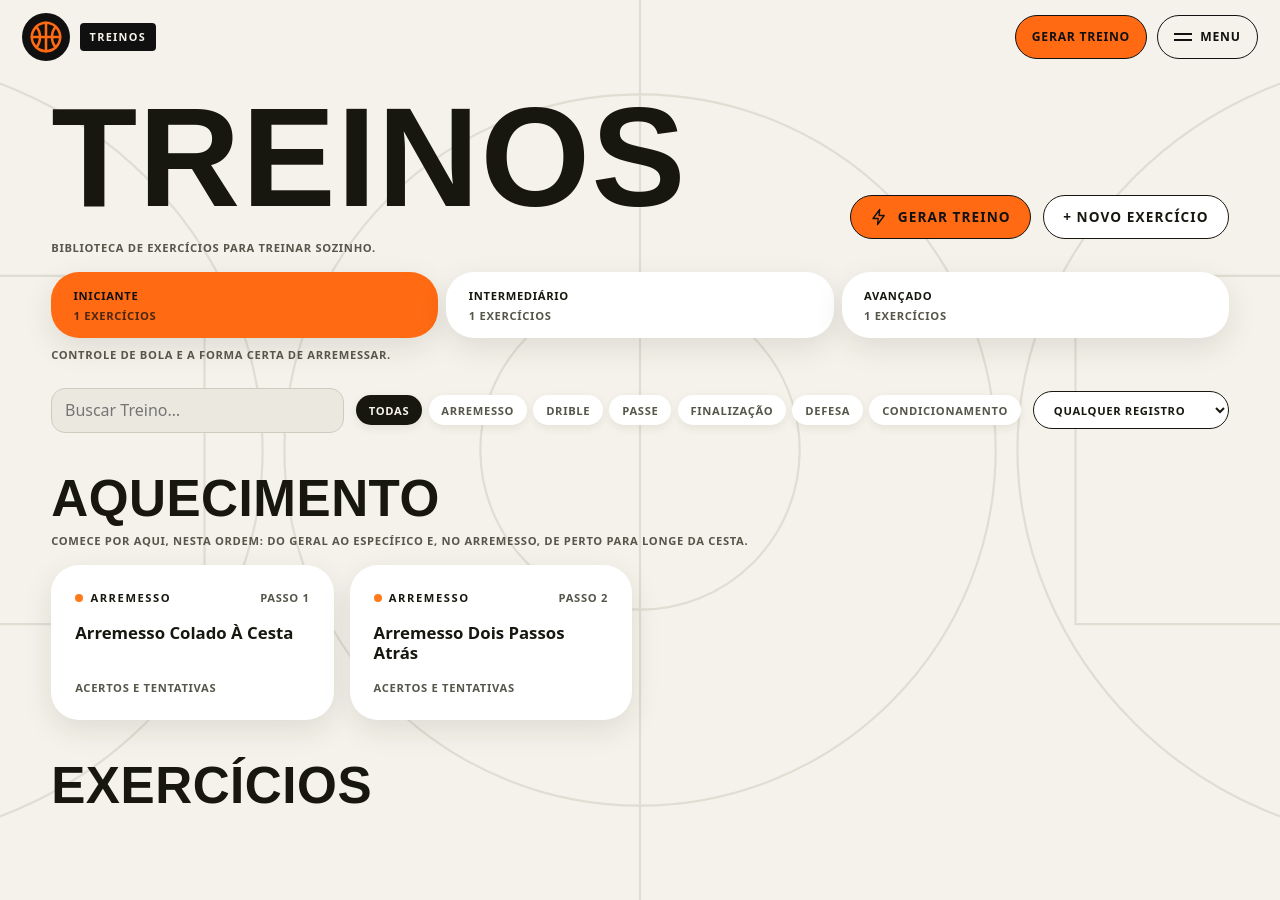
Níveis › troca de nível mantendo os exercícios do atleta
Click the button "Avançado 1 exercícios" at (898, 295), box [842,272,1229,338]
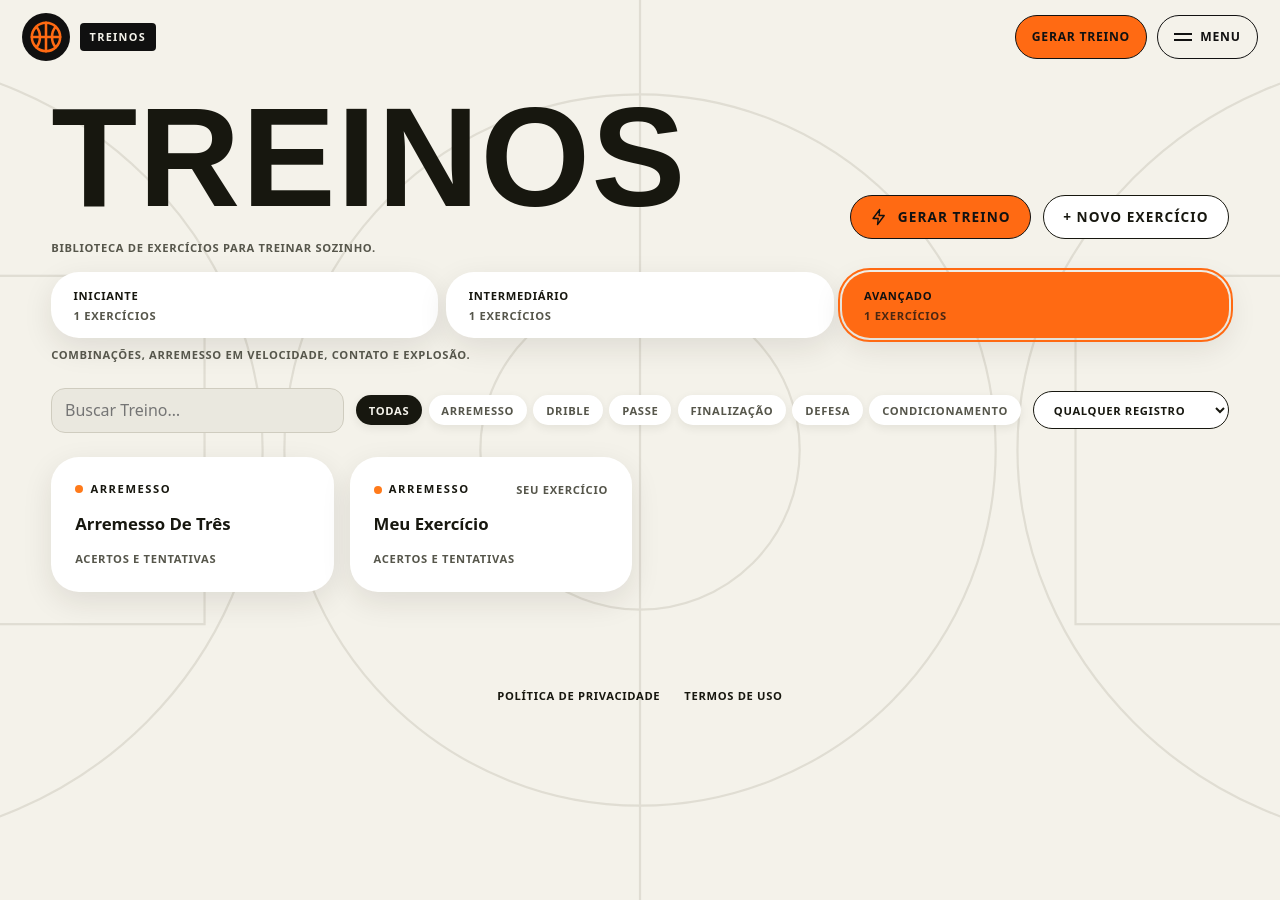
Expected: the heading "Aquecimento" is gone
